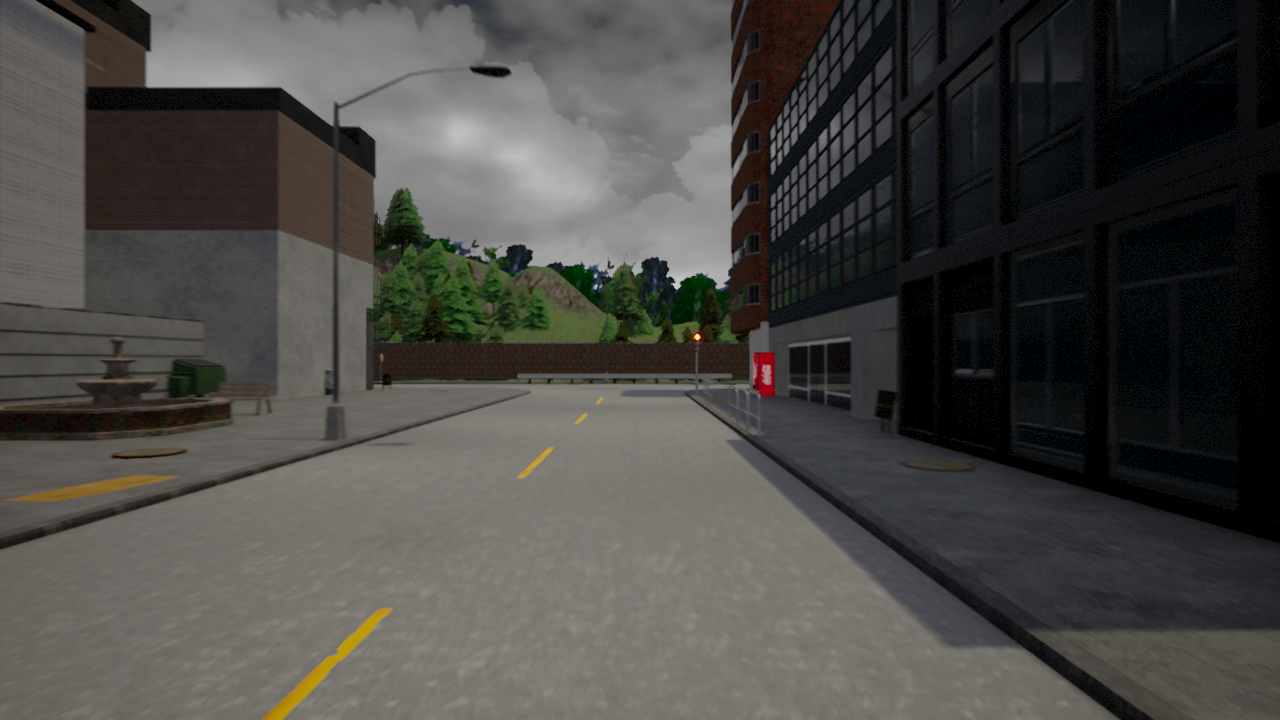red: (693, 332, 701, 353)
